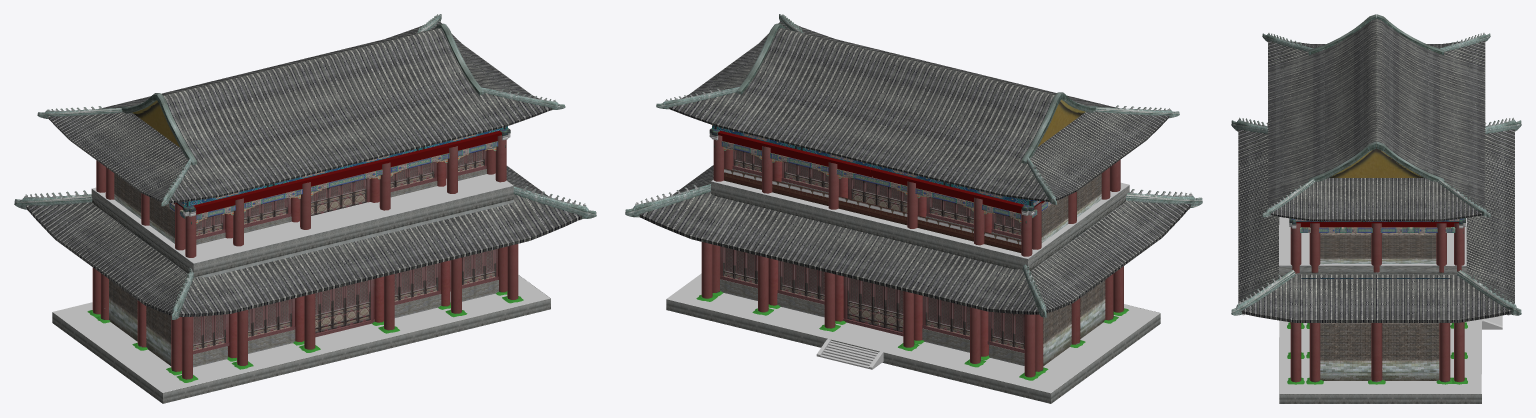
Rendered from 长廊大殿.FBX.
The picture shows the model from 3 angles, left to right: view 1: azimuth 30°, elevation 25°; view 2: azimuth 150°, elevation 25°; view 3: azimuth 270°, elevation 25°; orthographic projection. The views are drawn at different scales.
Parts seen in each view (by area): view 1: Group139, Group143, Group141, Group140; view 2: Group139, Rectangle2154, Group142, Group140, Group141; view 3: Group139, Group142, Group143, Group141, Group140.
Part boxes in pixels (bbox=[...]): Group139: bbox=[14, 21, 596, 403]; Group143: bbox=[441, 23, 565, 109]; Group141: bbox=[157, 93, 196, 206]; Group140: bbox=[37, 93, 158, 118]; Group139: bbox=[625, 21, 1202, 403]; Rectangle2154: bbox=[724, 168, 1021, 252]; Group142: bbox=[656, 23, 779, 109]; Group140: bbox=[1021, 92, 1061, 204]; Group141: bbox=[1059, 92, 1179, 118]; Group139: bbox=[1231, 18, 1521, 403]; Group142: bbox=[1376, 141, 1490, 217]; Group143: bbox=[1262, 141, 1376, 217]; Group141: bbox=[1262, 14, 1376, 55]; Group140: bbox=[1376, 14, 1490, 54].
Size of the model in its own units: 1677 by 981 by 1082.
